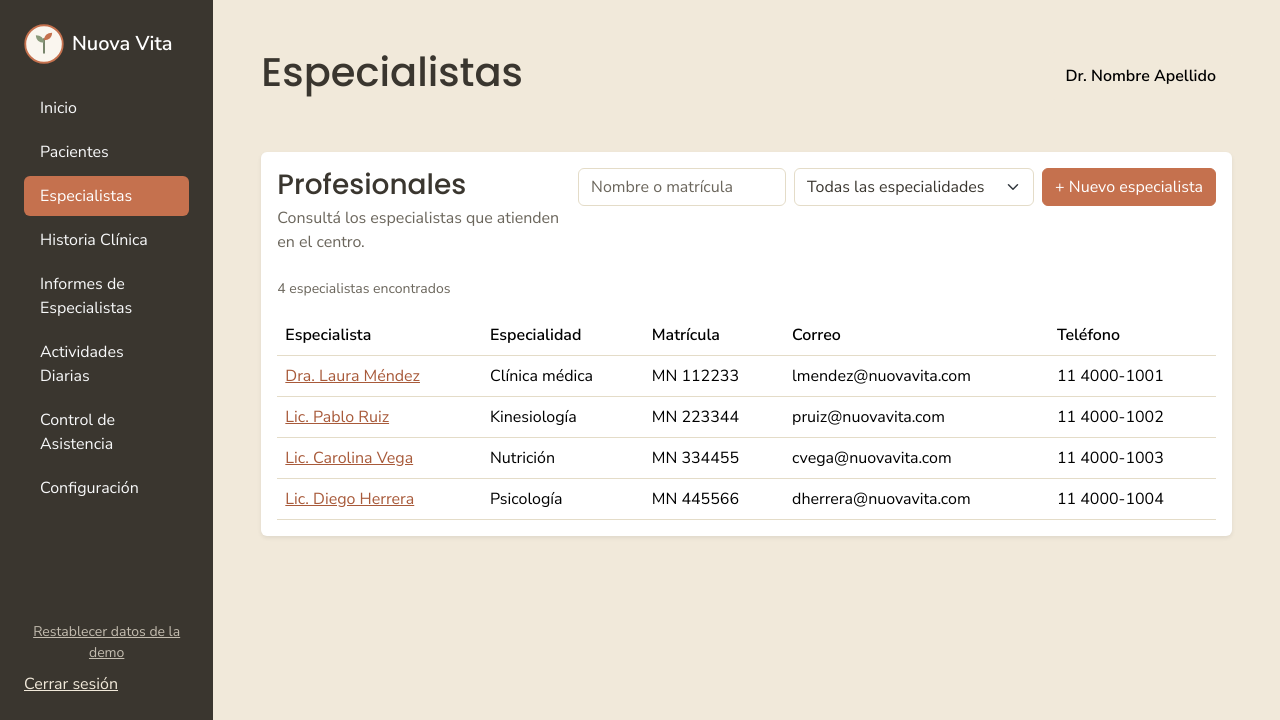
Test: listado y ficha de especialistas › busca por matrícula
Type "445566" into the search field named "Buscar especialista" at (682, 187), box [578, 168, 786, 206]
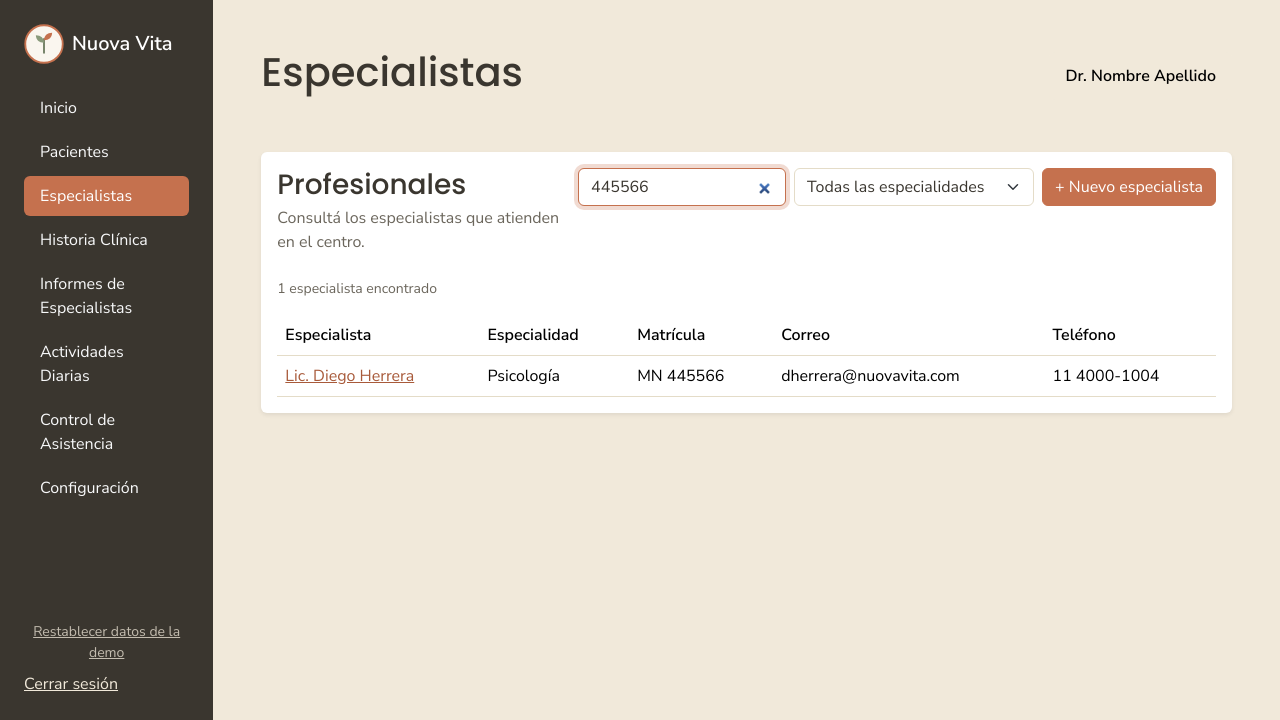
Check: the link "Lic. Diego Herrera" is shown, box [285, 365, 414, 387]
Check: the text "1 especialista encontrado" is shown, box [277, 279, 437, 298]
